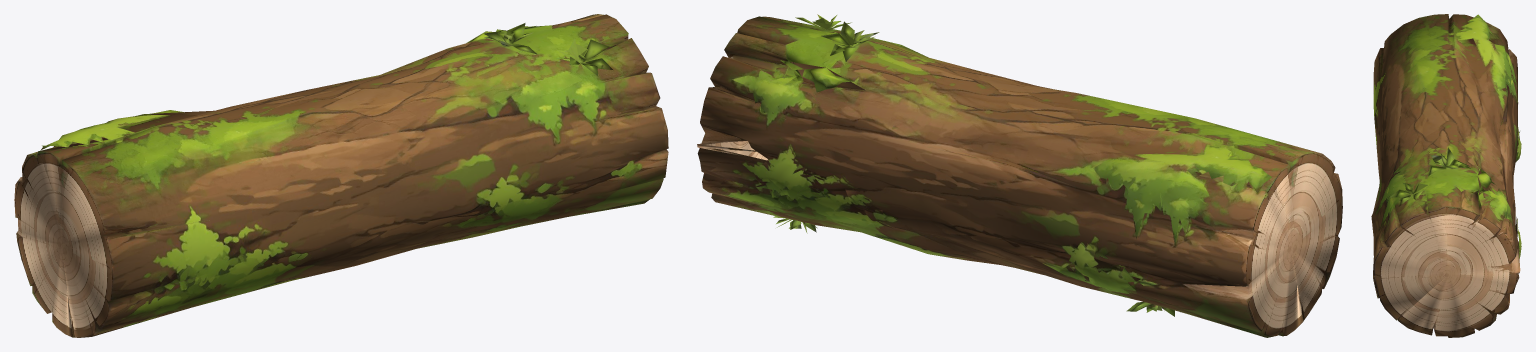
File: Log.fbx
The picture shows the model from 3 angles, left to right: view 1: azimuth 30°, elevation 25°; view 2: azimuth 150°, elevation 25°; view 3: azimuth 270°, elevation 25°; orthographic projection. The views are drawn at different scales.
Visible parts, largest first — view 1: Log; view 2: Log; view 3: Log.
Boxes of the visible parts, <box> form: Log: <box>14,14,668,337</box>; Log: <box>697,14,1342,337</box>; Log: <box>1371,14,1521,337</box>.
Bounding box in the file's own units: 2 × 0.6945 × 0.6395.
Materials: 1 (1 with a texture image).
